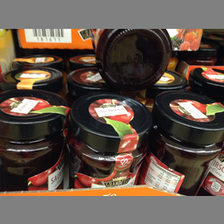jam: (140, 91, 224, 196), (71, 92, 154, 189), (1, 88, 68, 190)
